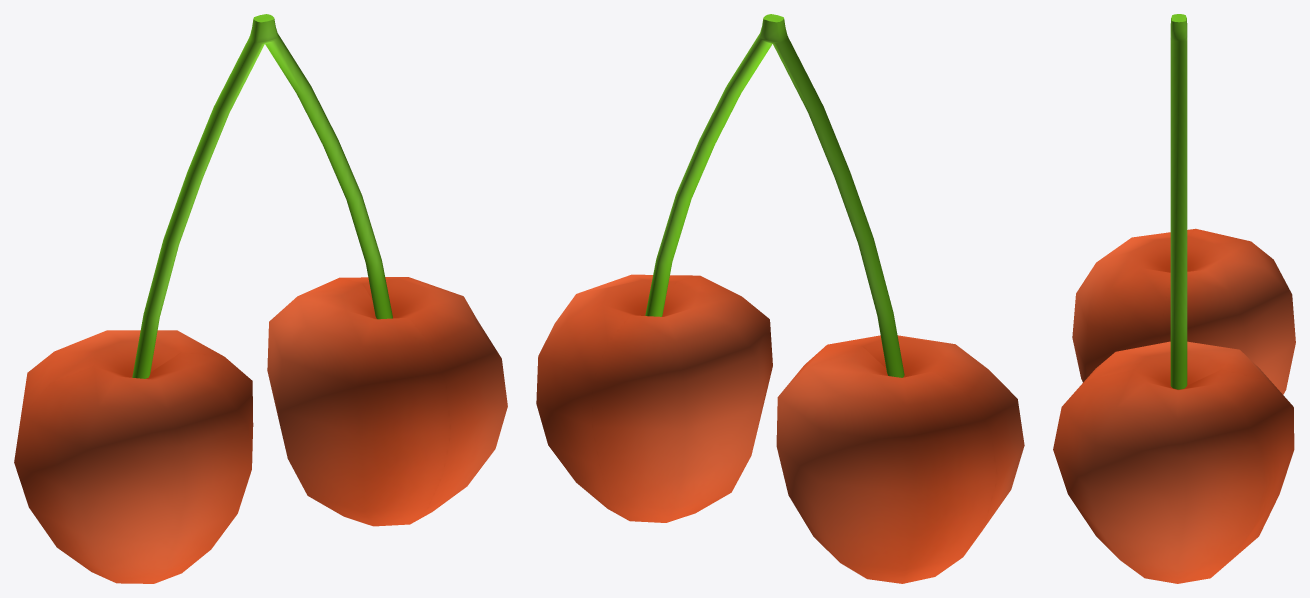
The model's file is Cherry.FBX.
The picture shows the model from 3 angles, left to right: view 1: azimuth 30°, elevation 25°; view 2: azimuth 150°, elevation 25°; view 3: azimuth 270°, elevation 25°; orthographic projection. The views are drawn at different scales.
Visible parts, largest first — view 1: Cherry; view 2: Cherry; view 3: Cherry.
Boxes of the visible parts, bbox=[...] form: Cherry: bbox=[14, 14, 507, 583]; Cherry: bbox=[536, 14, 1024, 583]; Cherry: bbox=[1053, 14, 1295, 583].
Bounding box in the file's own units: 160 × 174 × 77.37.
